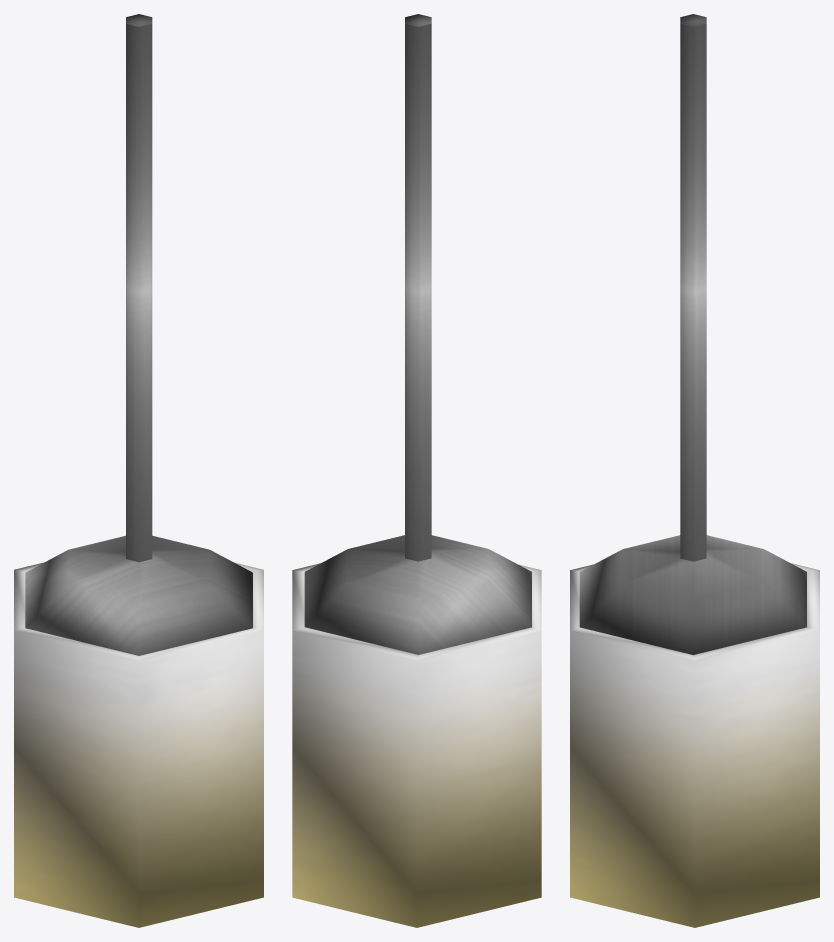
File: Pendant_Light_A.FBX
3 views of the same model, side by side, from view 1: azimuth 30°, elevation 25°; view 2: azimuth 150°, elevation 25°; view 3: azimuth 270°, elevation 25° (orthographic).
Parts seen in each view (by area): view 1: Pendant light; view 2: Pendant light; view 3: Pendant light.
Part boxes in pixels (left/top/right/bottom): Pendant light: left=14, top=14, right=263, bottom=927; Pendant light: left=292, top=14, right=541, bottom=927; Pendant light: left=570, top=14, right=819, bottom=927.
Bounding box in the file's own units: 75.21 × 244 × 65.13.
